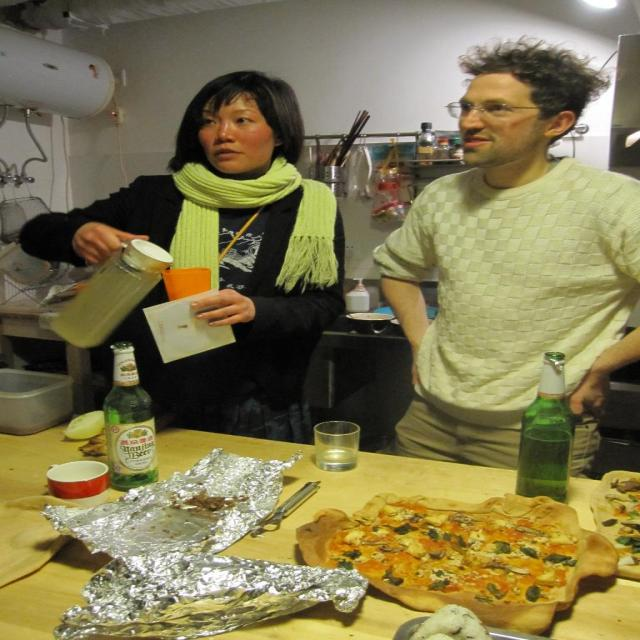no_helmet: (434, 41, 519, 95), (216, 57, 300, 111)
